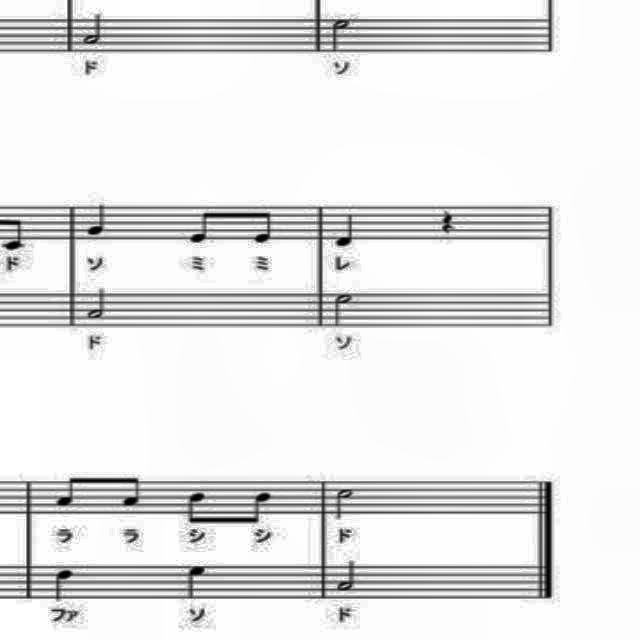Eighth-note: (185, 202, 222, 254), (49, 472, 85, 512), (182, 488, 218, 528), (241, 488, 277, 528), (0, 212, 32, 256), (251, 206, 279, 247), (117, 470, 145, 510)
Half-note: (327, 288, 358, 328), (78, 13, 108, 49), (329, 16, 355, 56), (86, 285, 112, 323), (334, 560, 358, 598), (334, 488, 358, 520)
Quarter-note: (332, 210, 360, 250), (52, 561, 78, 603), (86, 202, 112, 240), (184, 562, 210, 600)
Quarter-rest: (434, 202, 458, 234)
